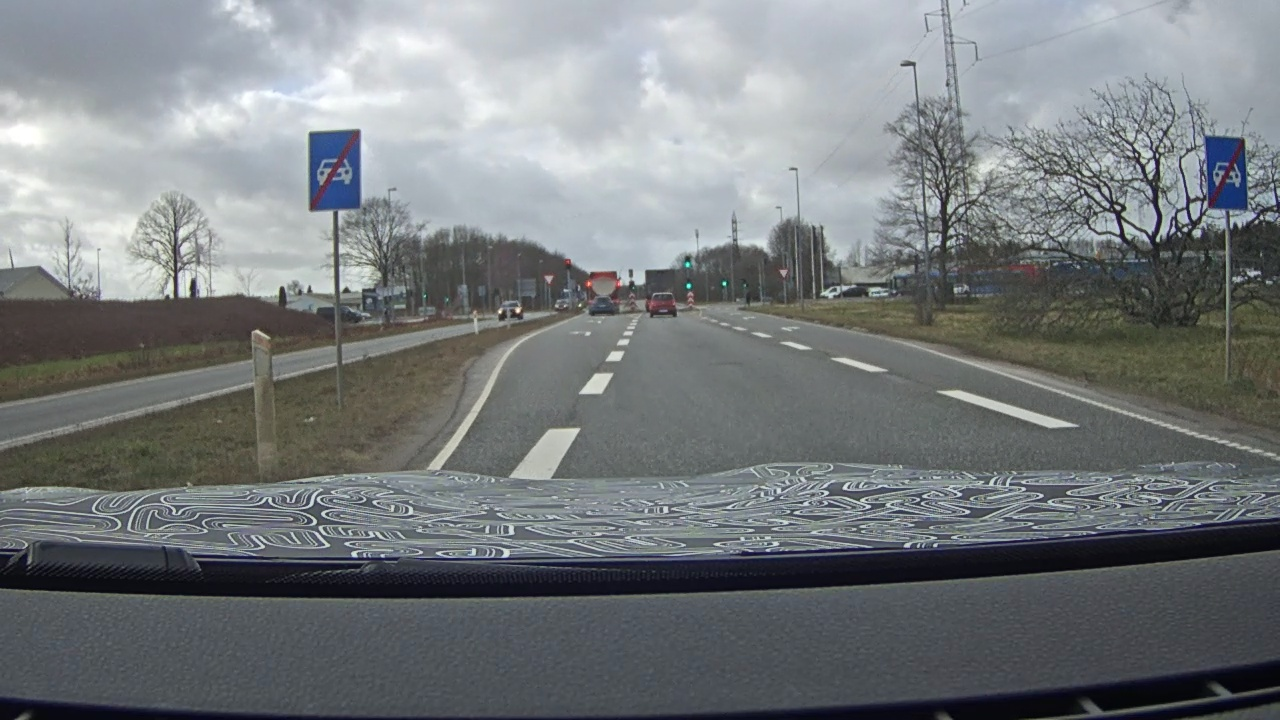Expressway_End: (306, 129, 363, 212), (1203, 134, 1248, 212)
